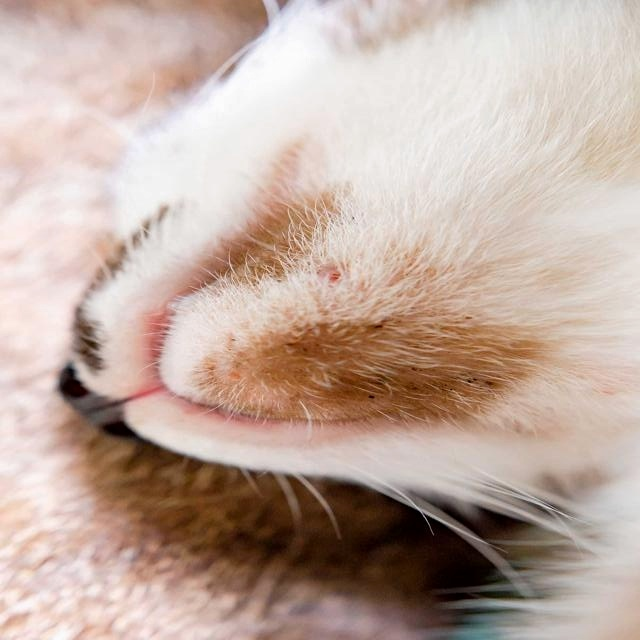acne: (292, 300, 514, 425)
